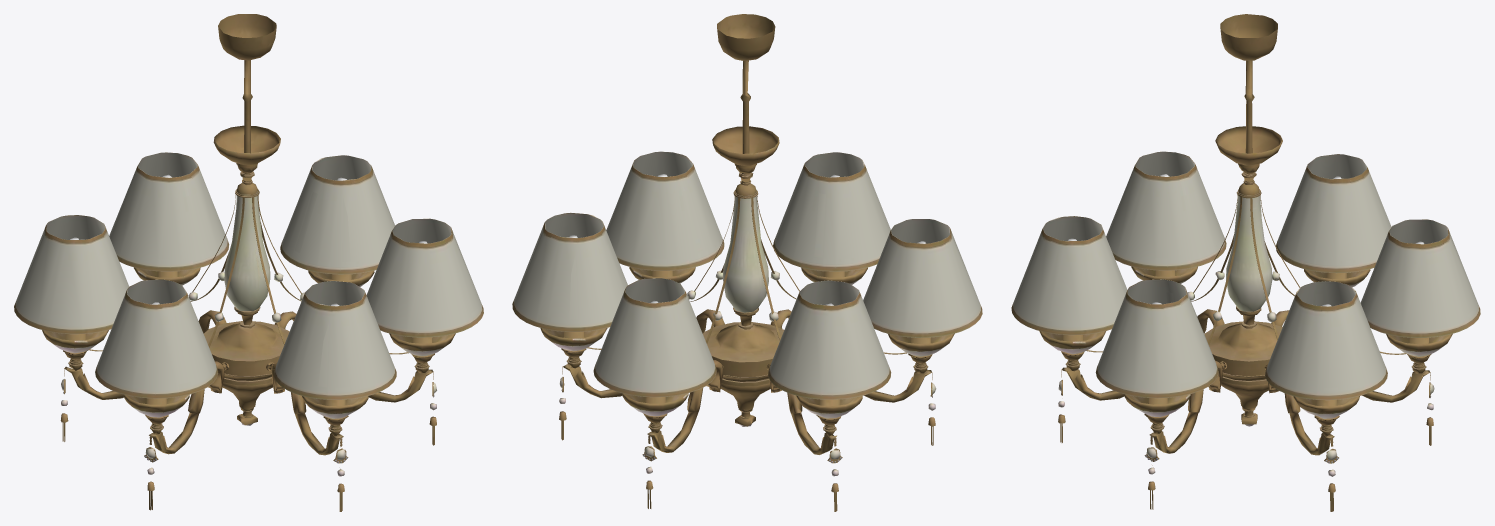
Rendered from chandelier_01.glb.
3 renders of one model, left to right at view 1: azimuth 30°, elevation 25°; view 2: azimuth 150°, elevation 25°; view 3: azimuth 270°, elevation 25°, orthographic.
Visible parts, largest first — view 1: Chandelier_01; view 2: Chandelier_01; view 3: Chandelier_01.
Boxes of the visible parts, bbox=[...] form: Chandelier_01: bbox=[14, 14, 483, 511]; Chandelier_01: bbox=[512, 14, 982, 511]; Chandelier_01: bbox=[1011, 14, 1480, 511].
Bounding box in the file's own units: 0.7465 × 0.7983 × 0.8155.
Materials: 2 (1 with a texture image).
